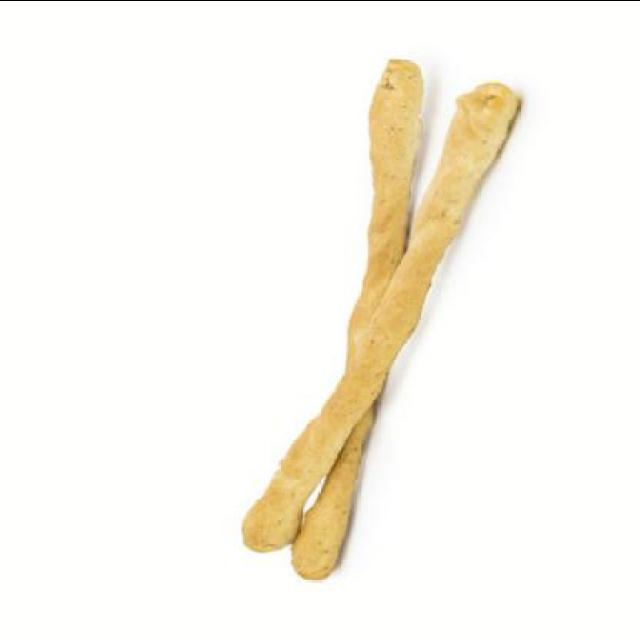Grissini: (238, 59, 516, 583)
